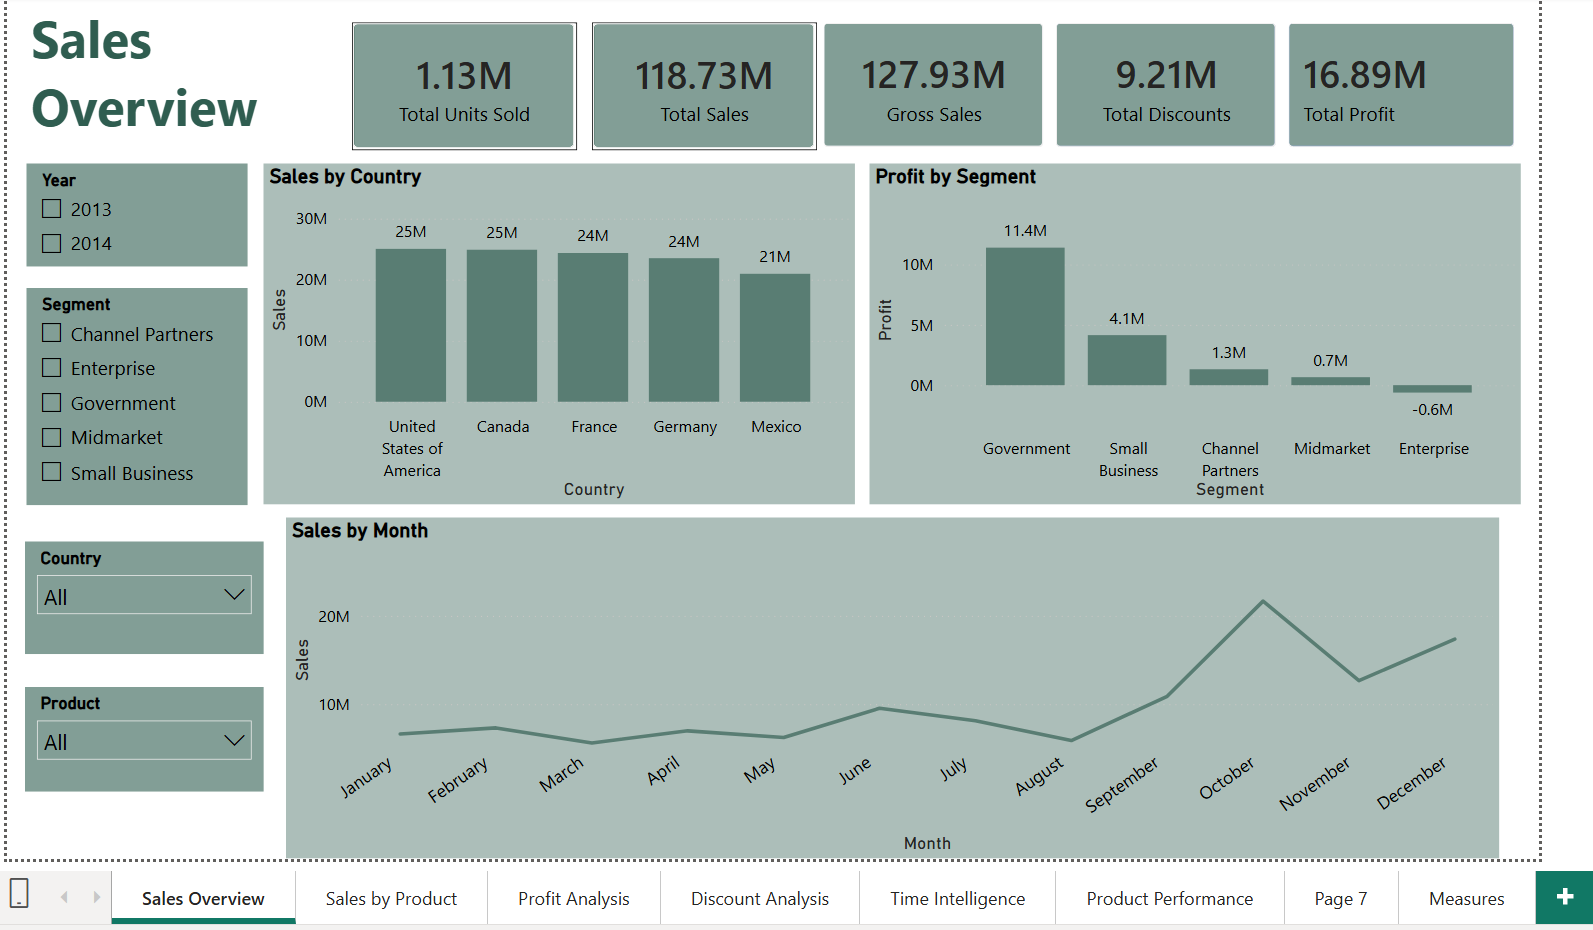

What the dashboard file says about the page in this screenshot:
{"tool":"powerbi","page":{"name":"Sales Overview","canvas":[1280,720],"ordinal":0},"visuals":[{"type":"cardVisual","fields":{"Data":["Sum(Sheet1.Sales)"]},"box":[489,21,187.8,106.9],"z":0},{"type":"cardVisual","fields":{"Data":["Sum(Sheet1.Gross Sales)"]},"box":[676.8,16.2,194.3,115],"z":2000},{"type":"cardVisual","fields":{"Data":["Sum(Sheet1.Discounts)"]},"box":[871.1,16.2,194.3,115],"z":3000},{"type":"cardVisual","fields":{"Data":["Sum(Sheet1.Profit)"]},"box":[1065.5,16.2,199.2,115],"z":4000},{"type":"textbox","box":[489.5,306.1,275.9,86.9],"z":5000},{"type":"textbox","box":[14.6,0,233.2,127.9],"z":6000},{"type":"clusteredColumnChart","title":"Sales by Country","fields":{"Category":["Sheet1.Country"],"Y":["Sum(Sheet1.Sales)"]},"box":[213.7,139.3,493.9,285],"z":7000},{"type":"lineChart","title":"Sales by Month","fields":{"Category":["Sheet1.Date.Variation.Date Hierarchy.Month"],"Y":["Sum(Sheet1.Sales)"]},"box":[233.2,434.6,1013,284.7],"z":8000},{"type":"clusteredColumnChart","title":"Profit by Segment","fields":{"Category":["Sheet1.Segment"],"Y":["Sum(Sheet1.Profit)"]},"box":[720.6,139.3,544.1,285],"z":9000},{"type":"slicer","fields":{"Values":["Sheet1.Date.Variation.Date Hierarchy.Year"]},"box":[16.2,139.3,184.6,85.8],"z":10000},{"type":"slicer","fields":{"Values":["Sheet1.Country"]},"box":[14.6,455,199.2,93.9],"z":11000},{"type":"slicer","fields":{"Values":["Sheet1.Product"]},"box":[14.6,576.4,199.2,87.4],"z":12000},{"type":"slicer","fields":{"Values":["Sheet1.Segment"]},"box":[16.2,242.9,184.6,181.4],"z":13000},{"type":"cardVisual","fields":{"Data":["Sheet1.Total Units Sold"]},"box":[288.2,21,187.8,106.9],"z":14001}]}

Visuals, with their boxes on the page's 1280x720 design canvas (x1, y1, x2, y2). These are canvas units, not pixel positions in the 1593x930 screenshot, which may show the page scaled, cropped or inside an application window:
cardVisual - Sum(Sheet1.Sales): rect(489, 21, 677, 128)
cardVisual - Sum(Sheet1.Gross Sales): rect(677, 16, 871, 131)
cardVisual - Sum(Sheet1.Discounts): rect(871, 16, 1065, 131)
cardVisual - Sum(Sheet1.Profit): rect(1066, 16, 1265, 131)
textbox: rect(490, 306, 765, 393)
textbox: rect(15, 0, 248, 128)
"Sales by Country" clusteredColumnChart: rect(214, 139, 708, 424)
"Sales by Month" lineChart: rect(233, 435, 1246, 719)
"Profit by Segment" clusteredColumnChart: rect(721, 139, 1265, 424)
slicer - Sheet1.Date.Variation.Date Hierarchy.Year: rect(16, 139, 201, 225)
slicer - Sheet1.Country: rect(15, 455, 214, 549)
slicer - Sheet1.Product: rect(15, 576, 214, 664)
slicer - Sheet1.Segment: rect(16, 243, 201, 424)
cardVisual - Sheet1.Total Units Sold: rect(288, 21, 476, 128)
